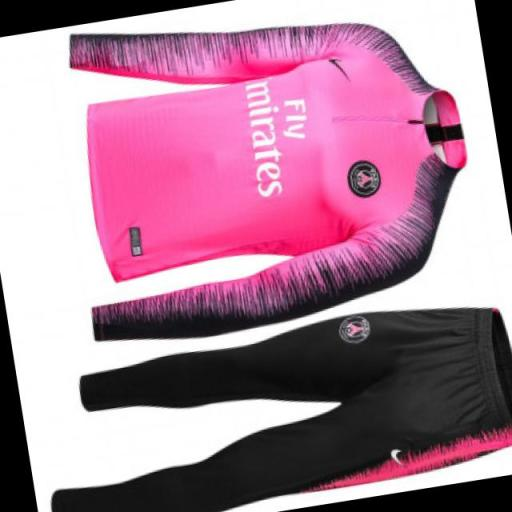Nike: (383, 443, 410, 472)
